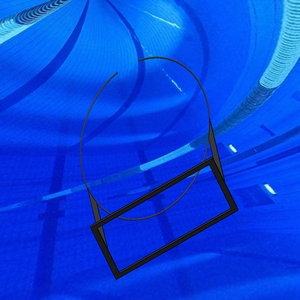circle: (79, 55, 240, 280)
